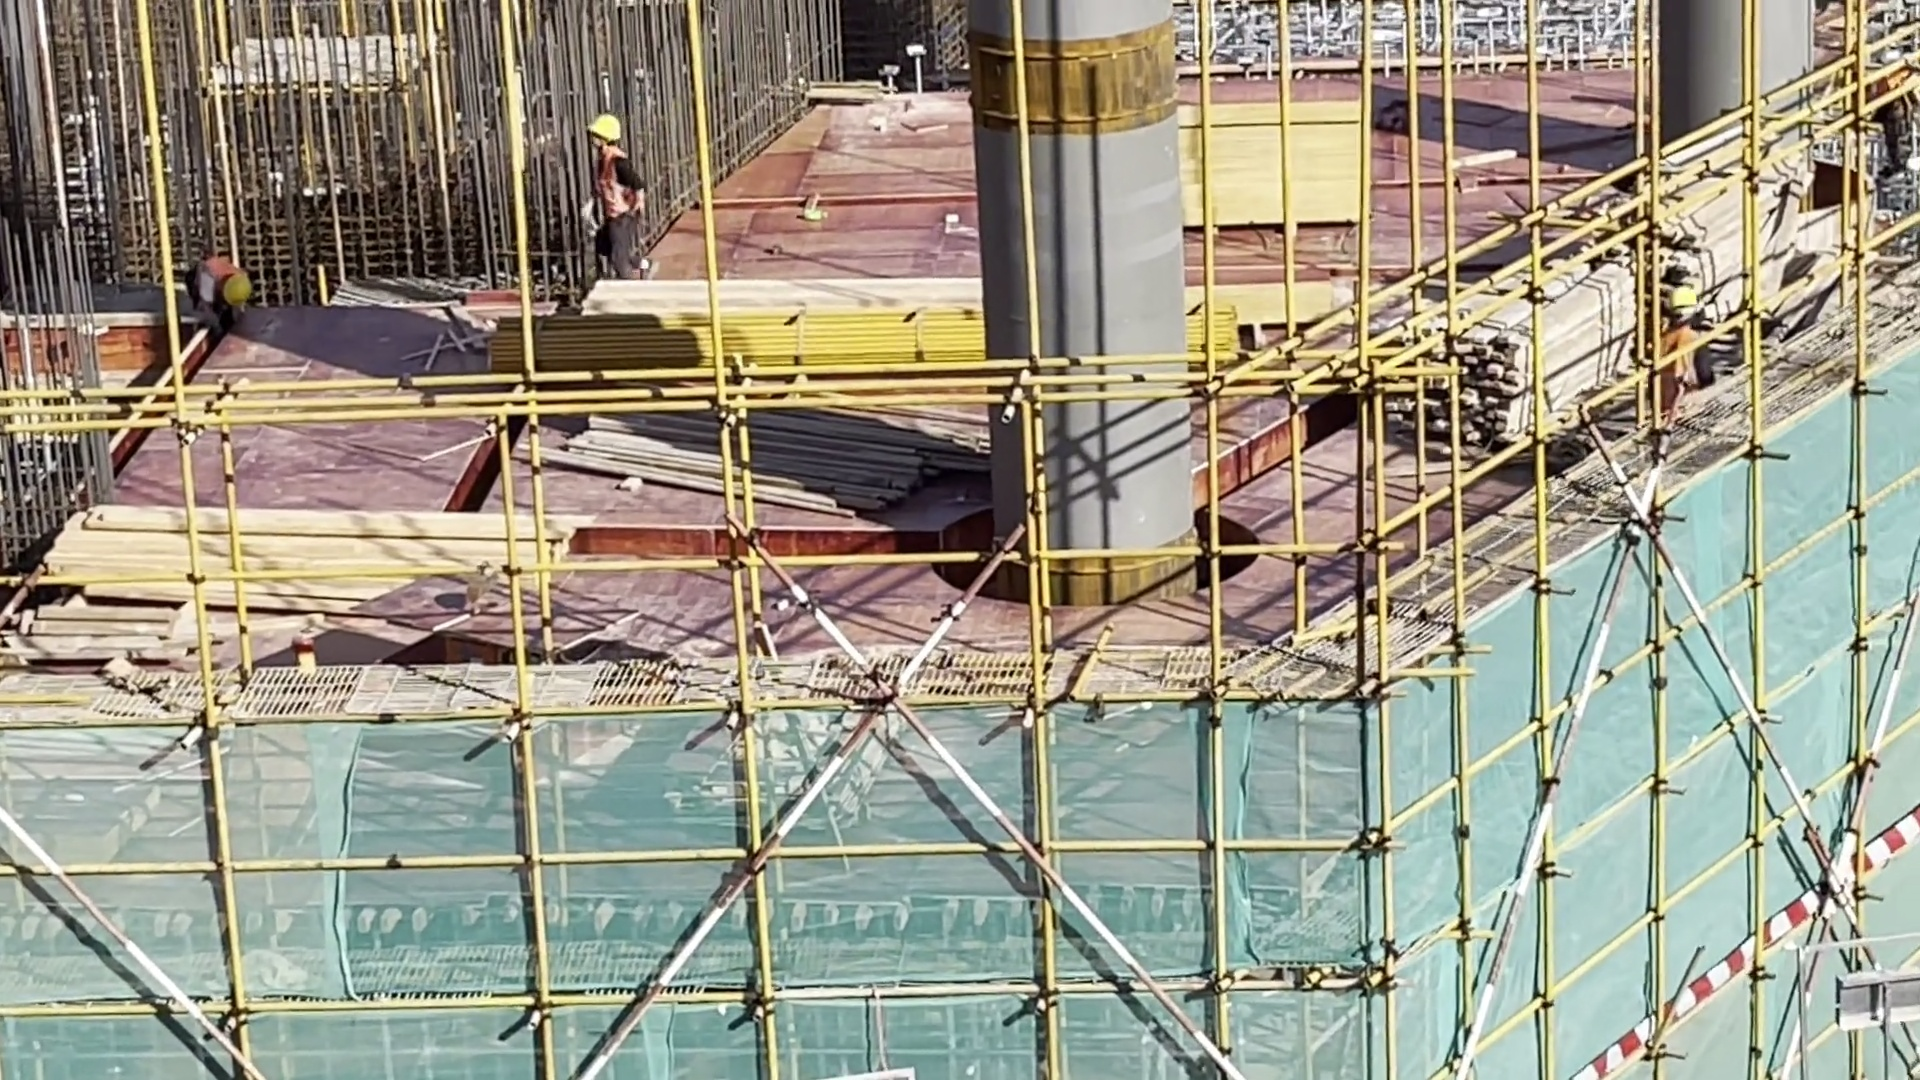helmet: (588, 109, 629, 156), (1659, 280, 1700, 319), (216, 268, 250, 306)
person: (1643, 256, 1716, 468), (587, 99, 652, 297), (188, 251, 262, 320)
vest: (1656, 320, 1725, 399), (588, 144, 647, 225), (197, 251, 247, 286)
